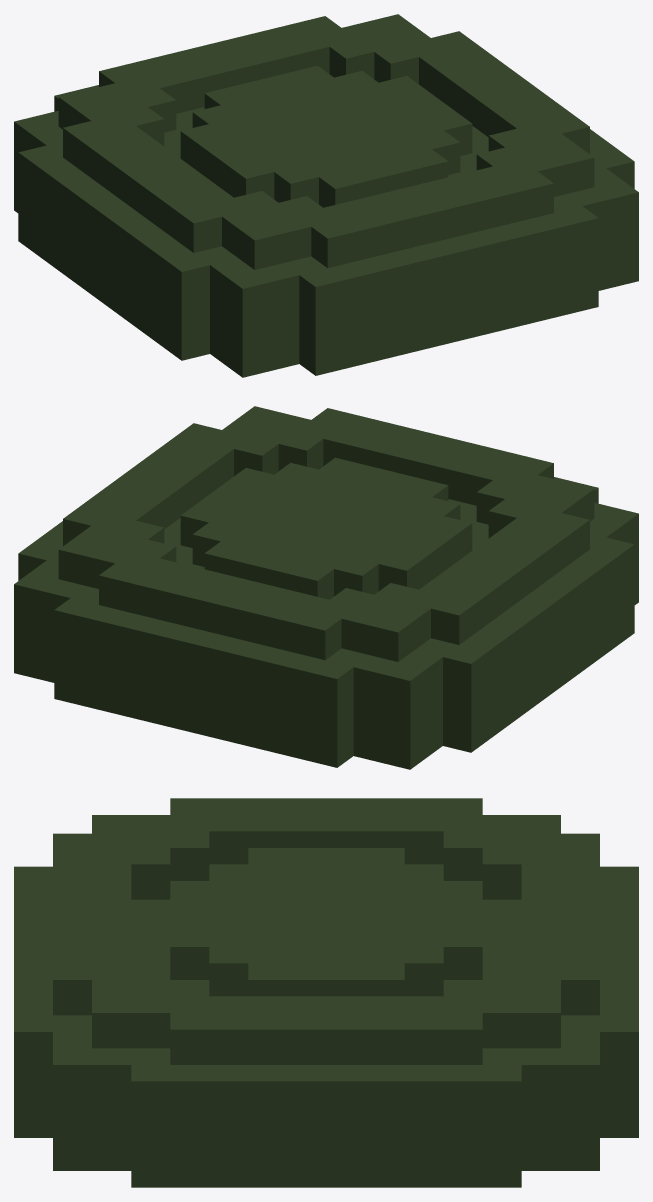
File: man-v2-green.gltf
The picture shows the model from 3 angles, top to bottom: view 1: azimuth 30°, elevation 25°; view 2: azimuth 150°, elevation 25°; view 3: azimuth 270°, elevation 25°; orthographic projection. The views are drawn at different scales.
Parts seen in each view (by area): view 1: Untitled; view 2: Untitled; view 3: Untitled.
Part boxes in pixels (x1,y1,x2,y2): Untitled: (14, 14, 638, 377); Untitled: (14, 406, 638, 769); Untitled: (14, 798, 638, 1187).
Size of the model in its own units: 1.6 by 0.4 by 1.6.
Materials: 1 (1 with a texture image).
